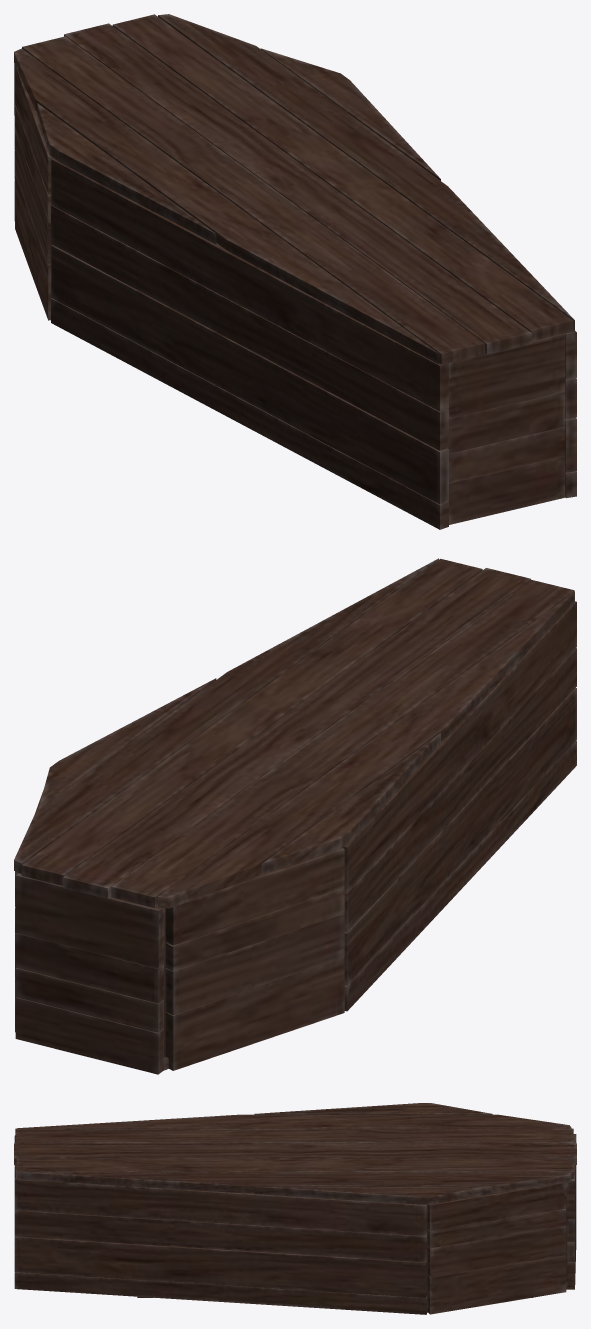
File: SM_Coffin.glb
The picture shows the model from 3 angles, top to bottom: view 1: azimuth 30°, elevation 25°; view 2: azimuth 150°, elevation 25°; view 3: azimuth 270°, elevation 25°; orthographic projection. The views are drawn at different scales.
Parts seen in each view (by area): view 1: SM_Coffin; view 2: SM_Coffin; view 3: SM_Coffin.
Part boxes in pixels (bbox=[...]): SM_Coffin: bbox=[14, 14, 576, 529]; SM_Coffin: bbox=[14, 558, 576, 1074]; SM_Coffin: bbox=[14, 1103, 576, 1314].
Bounding box in the file's own units: 0.7948 × 0.4687 × 1.96.
1 material, 1 textured.
